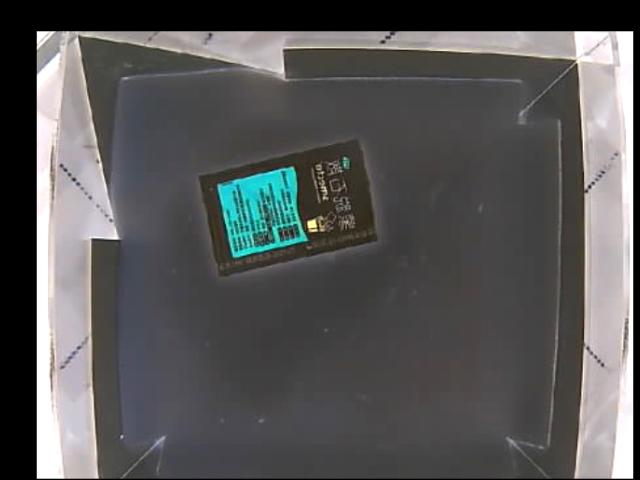Medicine: (196, 138, 376, 276)
